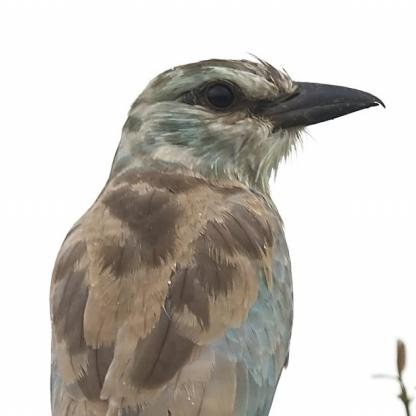Burung: (47, 60, 382, 416)
